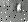person: (17, 4, 23, 14), (5, 3, 10, 13)
